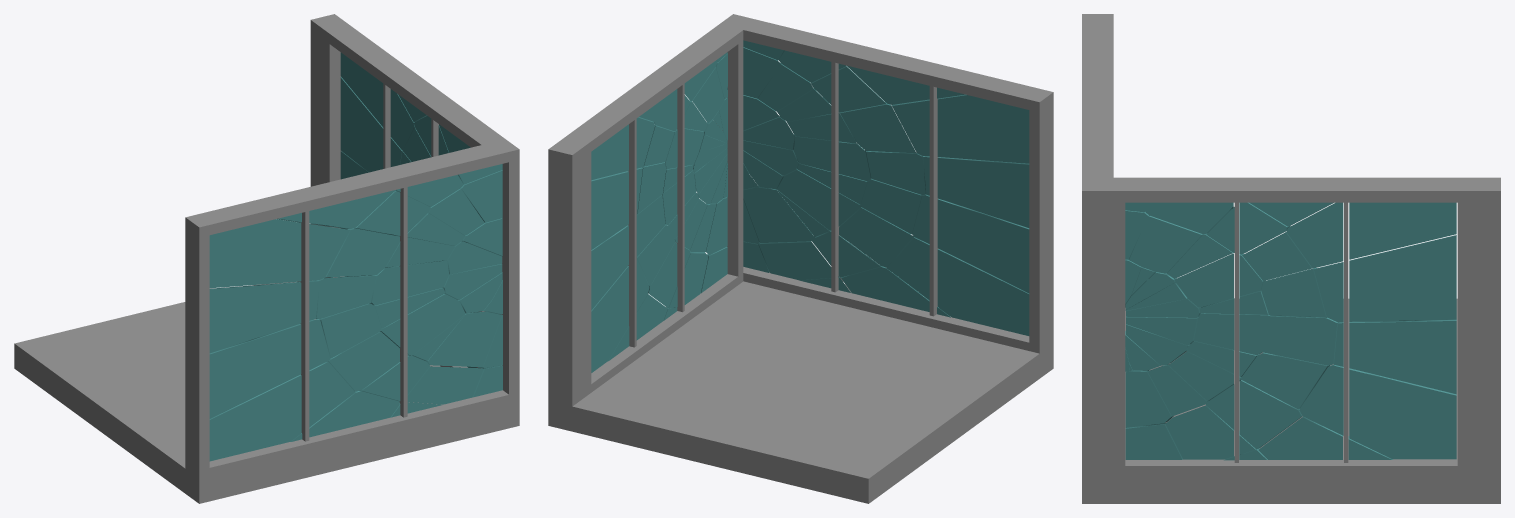
File: MSH_Window_Corner_Damaged_01.fbx
3 views of the same model, side by side, from view 1: azimuth 30°, elevation 25°; view 2: azimuth 150°, elevation 25°; view 3: azimuth 270°, elevation 25° (orthographic). The views are drawn at different scales.
Visible parts, largest first — view 1: MSH_Window_Corner_Damaged_01; view 2: MSH_Window_Corner_Damaged_01; view 3: MSH_Window_Corner_Damaged_01.
Part boxes in pixels (x1,y1,x2,y2): MSH_Window_Corner_Damaged_01: [14, 14, 519, 503]; MSH_Window_Corner_Damaged_01: [548, 14, 1053, 503]; MSH_Window_Corner_Damaged_01: [1082, 14, 1500, 503].
Size of the model in its own units: 157 by 130 by 157.
